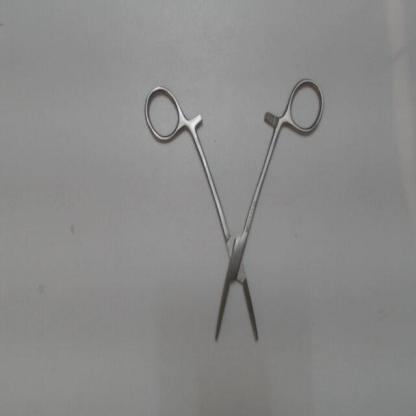Mayo Needle Holder: (141, 71, 330, 349)
